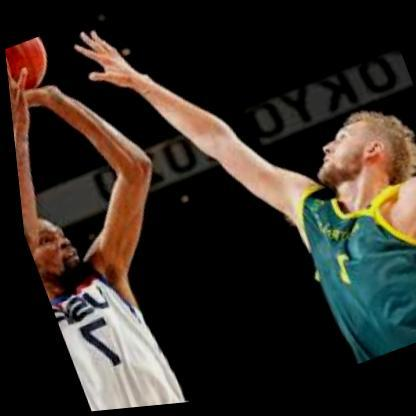basketball: (3, 35, 58, 110)
